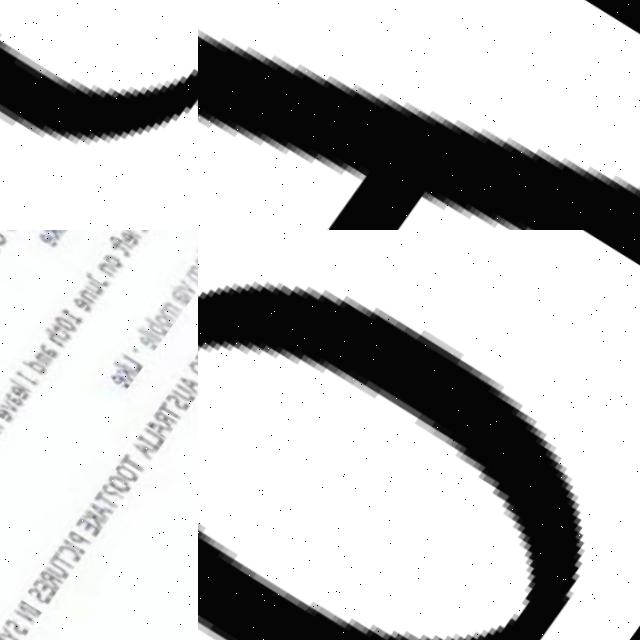0: (198, 230, 640, 640), (55, 313, 85, 337)
1: (61, 306, 89, 327)
5: (0, 0, 198, 230)
A: (93, 498, 124, 524), (149, 417, 178, 441), (136, 441, 164, 464), (41, 342, 66, 363), (8, 389, 33, 410), (181, 374, 198, 398), (172, 292, 194, 309), (0, 423, 9, 447)
B: (144, 317, 174, 342)
C: (61, 540, 92, 566)
D: (24, 354, 54, 379), (0, 633, 28, 640)
E: (80, 517, 111, 542), (38, 576, 67, 600), (36, 230, 64, 251), (74, 295, 99, 316), (14, 382, 38, 403), (140, 334, 164, 355), (120, 230, 144, 250), (114, 373, 138, 393), (0, 403, 22, 424)
F: (108, 233, 138, 256), (0, 411, 12, 434)
G: (0, 230, 13, 249)
H: (43, 325, 73, 350)
I: (67, 537, 95, 558), (18, 368, 44, 388), (140, 435, 166, 455), (26, 597, 52, 616), (141, 325, 166, 344), (171, 284, 196, 303), (119, 359, 144, 378), (43, 230, 68, 236), (124, 230, 153, 235)
J: (86, 270, 114, 291)
K: (85, 508, 115, 532), (114, 363, 142, 384), (37, 230, 66, 243)
L: (143, 426, 172, 450), (120, 354, 149, 375), (139, 328, 166, 348), (12, 375, 38, 394), (117, 230, 145, 242)
M: (160, 301, 187, 326), (186, 264, 198, 289)
N: (20, 601, 49, 625), (80, 286, 105, 308), (98, 261, 123, 281), (37, 352, 59, 369)
O: (117, 462, 150, 490), (110, 472, 142, 499), (105, 251, 129, 272), (154, 314, 179, 334), (188, 357, 198, 387), (0, 236, 6, 258)
P: (73, 529, 103, 554)
R: (198, 0, 640, 230), (46, 569, 76, 593), (156, 411, 185, 435), (0, 420, 8, 437)
S: (167, 392, 198, 418), (33, 585, 63, 610), (13, 615, 43, 640)
T: (124, 453, 155, 479), (56, 550, 86, 574), (161, 401, 190, 425), (98, 490, 127, 514), (110, 242, 137, 262), (51, 322, 78, 342)
U: (52, 559, 81, 583), (173, 383, 198, 407), (85, 280, 110, 300)
V: (3, 396, 28, 417), (177, 279, 198, 299)
Y: (5, 625, 34, 640)
